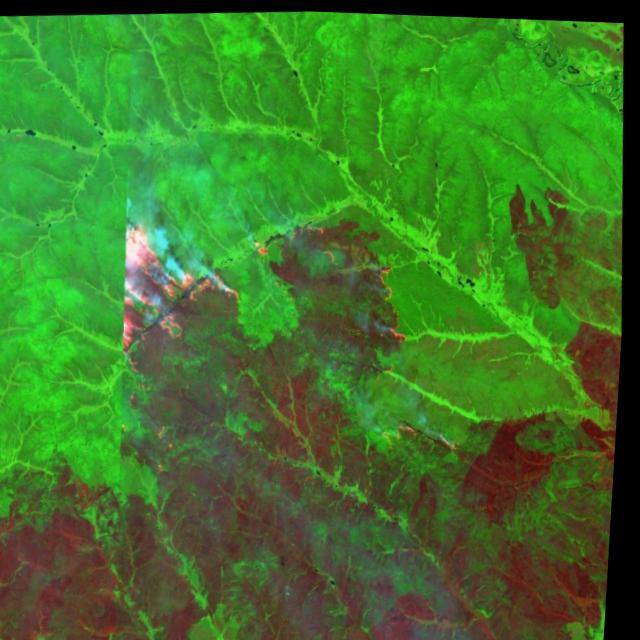fire: (116, 215, 250, 368), (380, 411, 479, 468), (373, 249, 418, 358), (250, 229, 280, 260)
